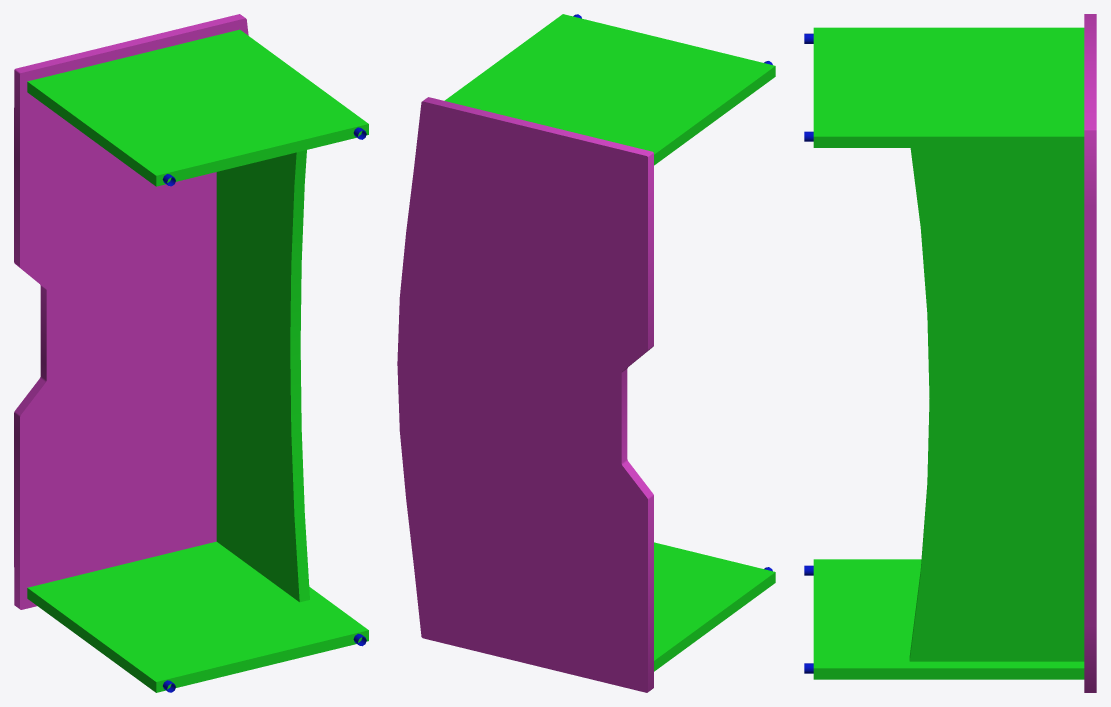
File: table_1.FBX
3 views of the same model, side by side, from view 1: azimuth 30°, elevation 25°; view 2: azimuth 150°, elevation 25°; view 3: azimuth 270°, elevation 25° (orthographic). The views are drawn at different scales.
Visible parts, largest first — view 1: base.001; view 2: base.001; view 3: base.001.
Part boxes in pixels (x1,y1,x2,y2): base.001: (14,14,368,692); base.001: (397,14,775,692); base.001: (804,14,1096,692).
Size of the model in its own units: 79.49 by 163 by 76.4.
